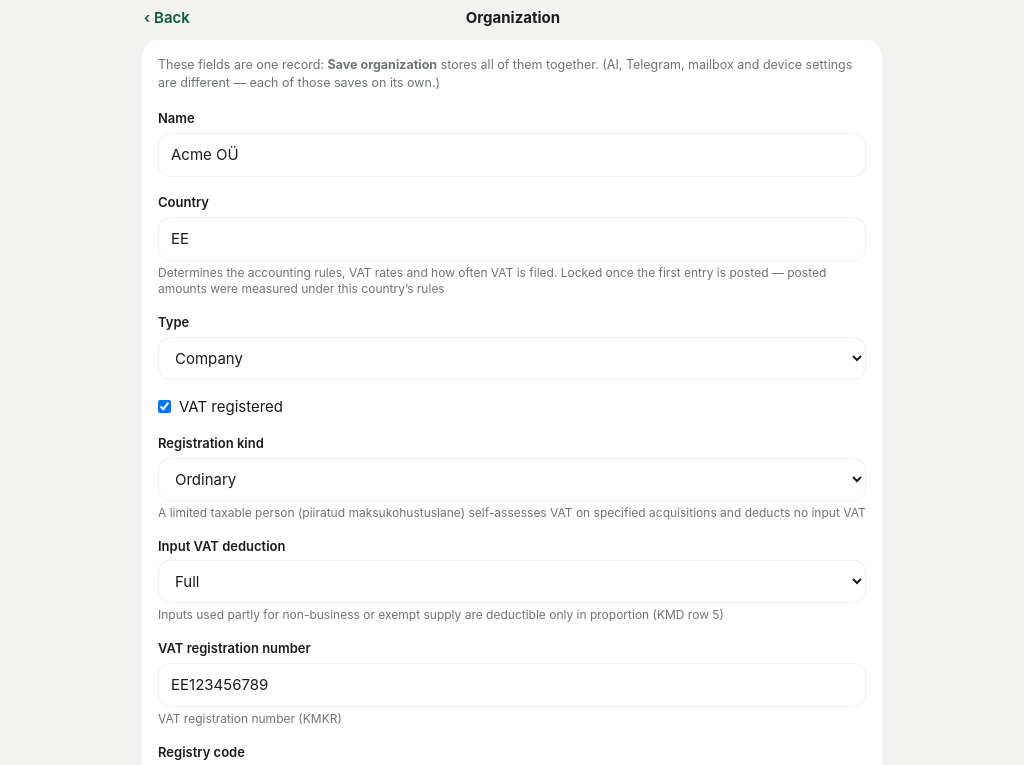
Test: OrganizationScreen › blocks save on a malformed country and explains why
Type "Estonia" into the field labelled "Country".
click(512, 239); type("Estonia")  # box [158,216,866,261]
(page scrolled)
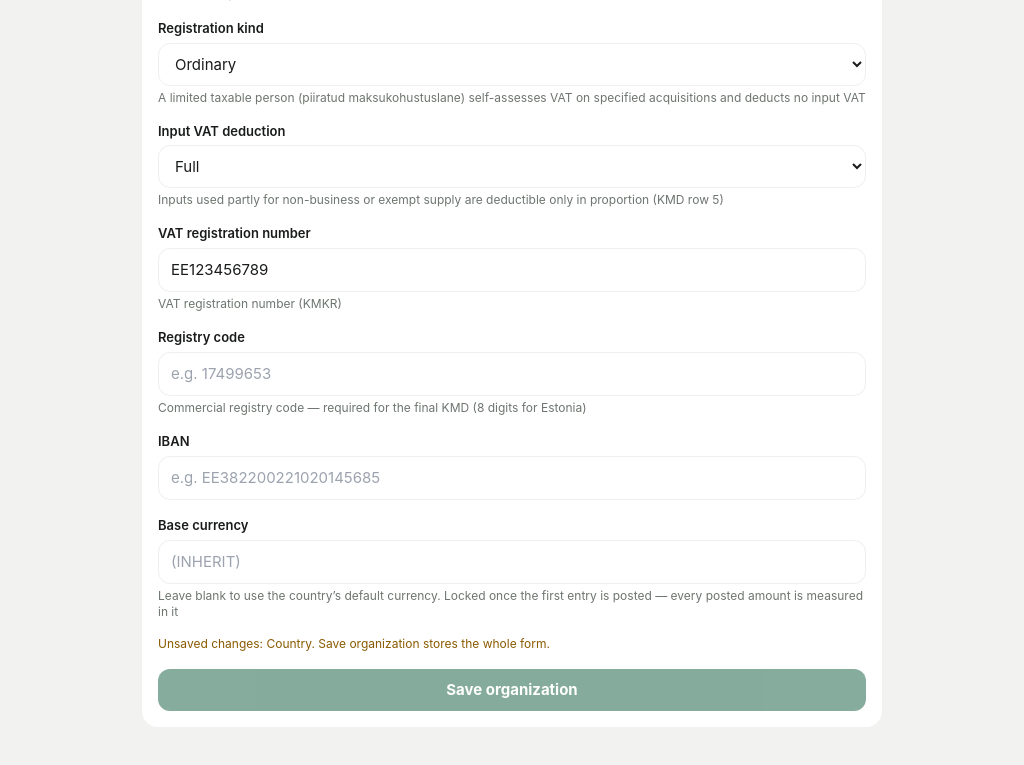
Now the button "Save organization" is disabled, box [158,668,866,711]
